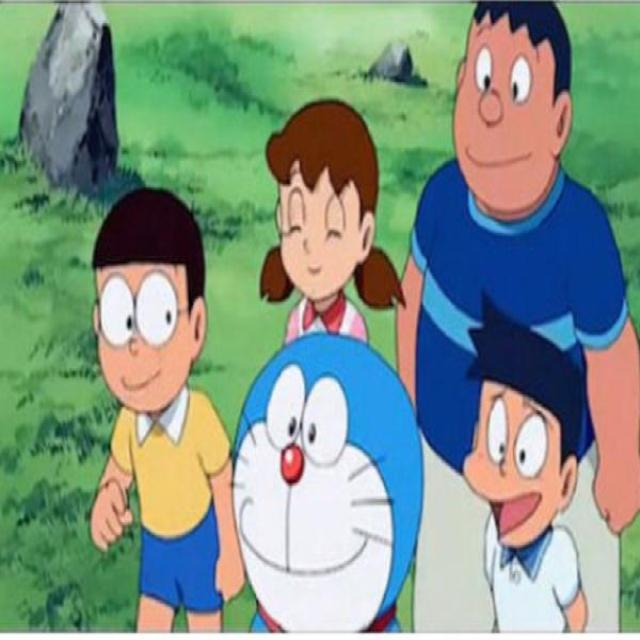doraemon: (230, 336, 424, 632)
nobita: (90, 183, 210, 421)
shizuka: (256, 93, 409, 318)
suneo: (463, 287, 582, 554)
